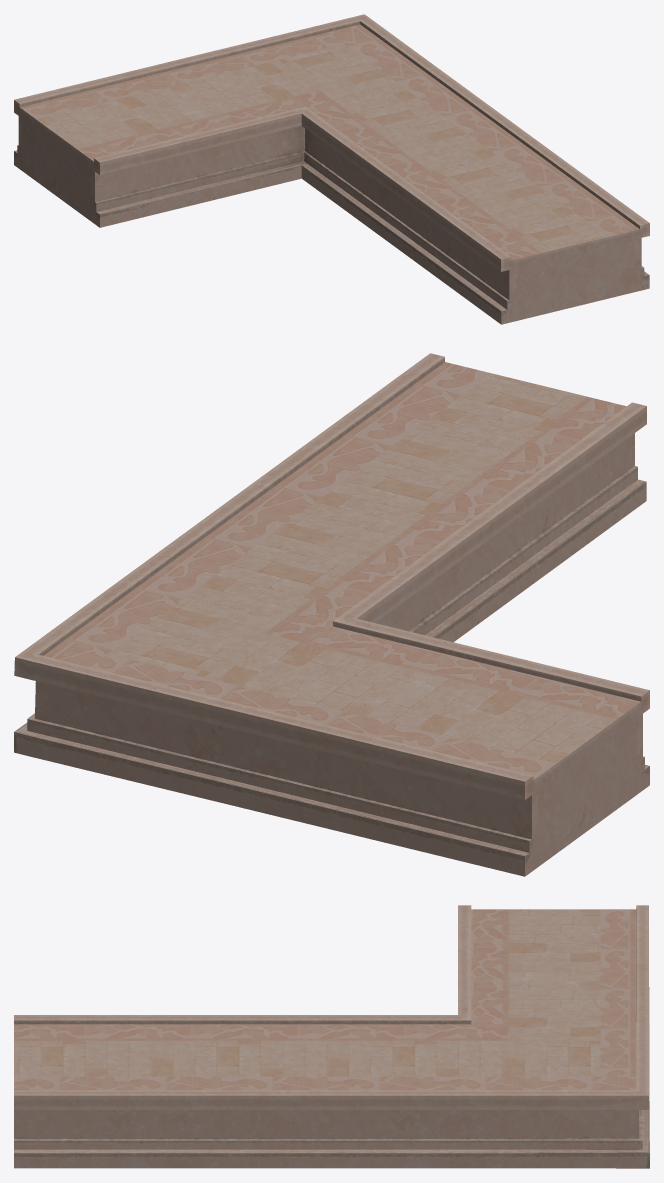
Rendered from 左拐路段.fbx.
The picture shows the model from 3 angles, top to bottom: view 1: azimuth 30°, elevation 25°; view 2: azimuth 150°, elevation 25°; view 3: azimuth 270°, elevation 25°; orthographic projection. The views are drawn at different scales.
Parts seen in each view (by area): view 1: 平面.021; view 2: 平面.021; view 3: 平面.021.
Part boxes in pixels (x1,y1,x2,y2): 平面.021: [14, 14, 649, 324]; 平面.021: [14, 353, 649, 876]; 平面.021: [14, 905, 649, 1168].
Bounding box in the file's own units: 731 × 130 × 1032.
